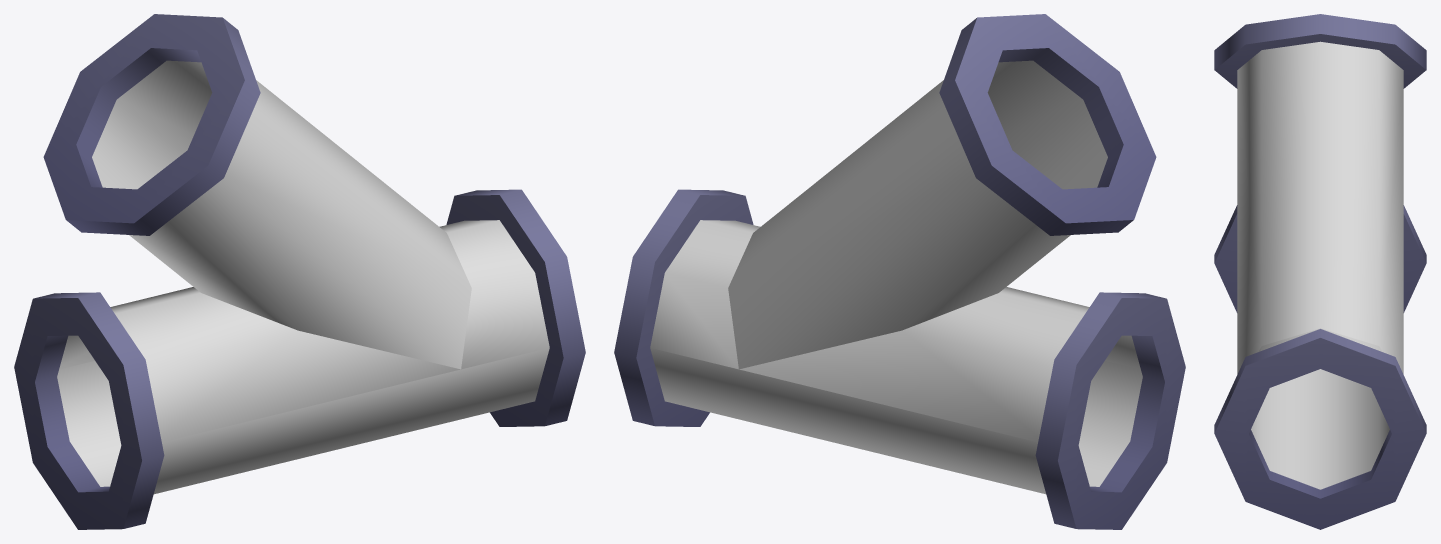
The model's file is pipe-glass-large-junction.glb.
The picture shows the model from 3 angles, left to right: view 1: azimuth 30°, elevation 25°; view 2: azimuth 150°, elevation 25°; view 3: azimuth 270°, elevation 25°; orthographic projection. The views are drawn at different scales.
Visible parts, largest first — view 1: pipe-glass-large-junction; view 2: pipe-glass-large-junction; view 3: pipe-glass-large-junction.
Part boxes in pixels (bbox=[...]): pipe-glass-large-junction: bbox=[14, 14, 585, 529]; pipe-glass-large-junction: bbox=[614, 14, 1185, 529]; pipe-glass-large-junction: bbox=[1214, 14, 1426, 529].
Size of the model in its own units: 2.06 by 2.06 by 1.
